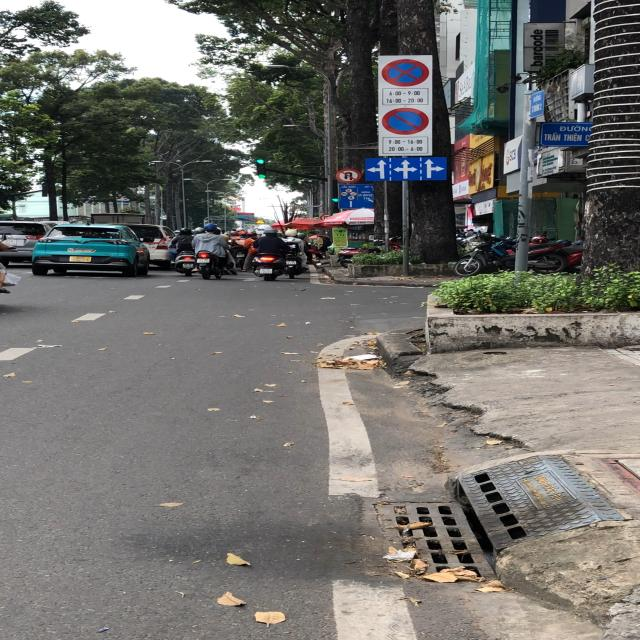Bien bao cam do xe: (380, 105, 431, 135)
Bien bao cam dung xe va do xe: (381, 57, 432, 87)
Bien bao cam quay dau xe: (334, 166, 364, 184)
